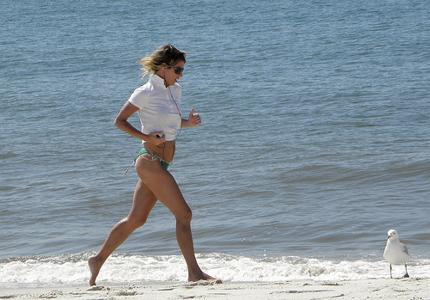person: (88, 44, 217, 287)
